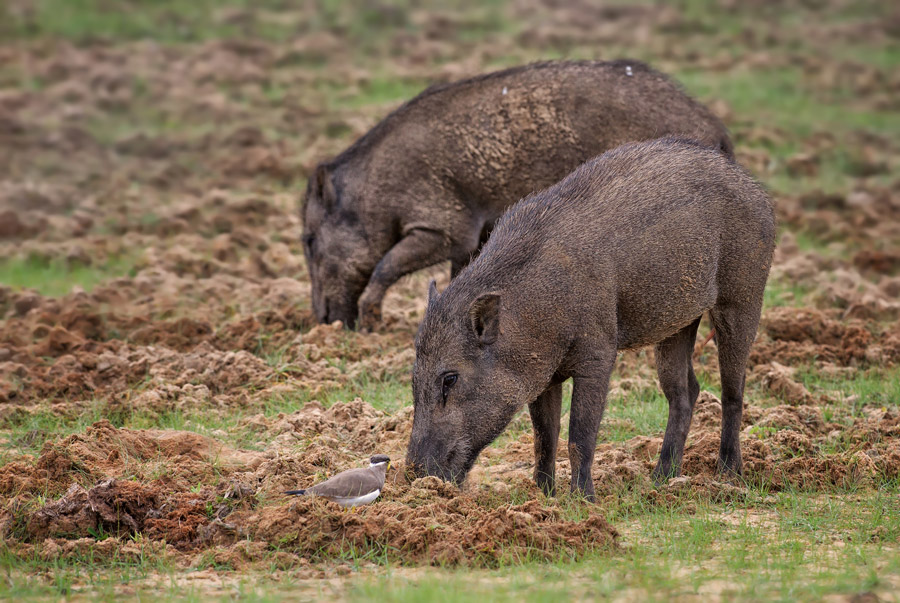wild boar: (396, 133, 789, 501), (283, 49, 772, 340)
